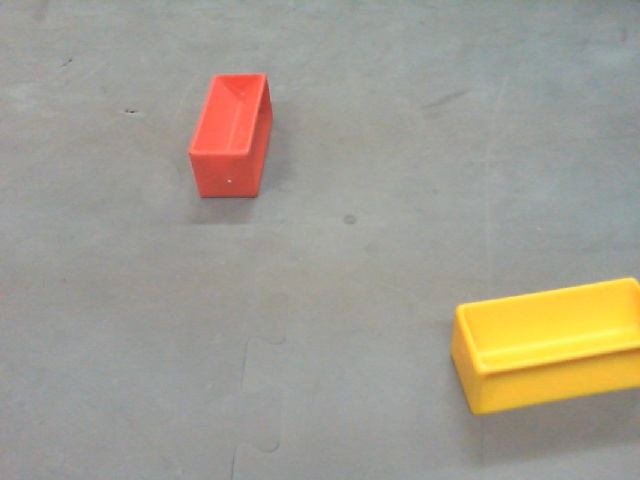RedSample: (186, 73, 273, 198)
YellowSample: (451, 277, 640, 415)
